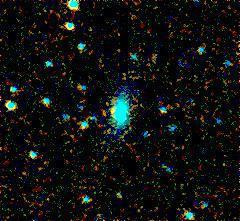star: (102, 98, 132, 128)
